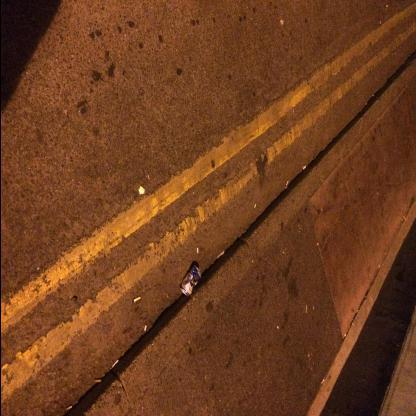metal: (180, 266, 201, 298)
